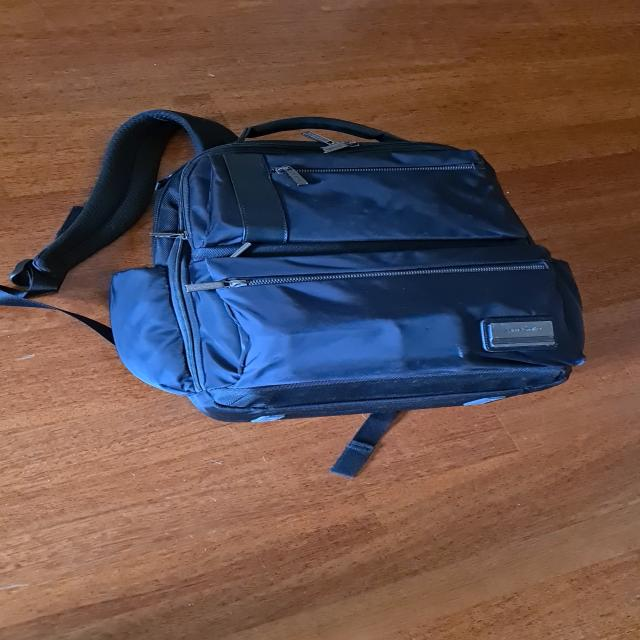backpack: (21, 103, 608, 454)
